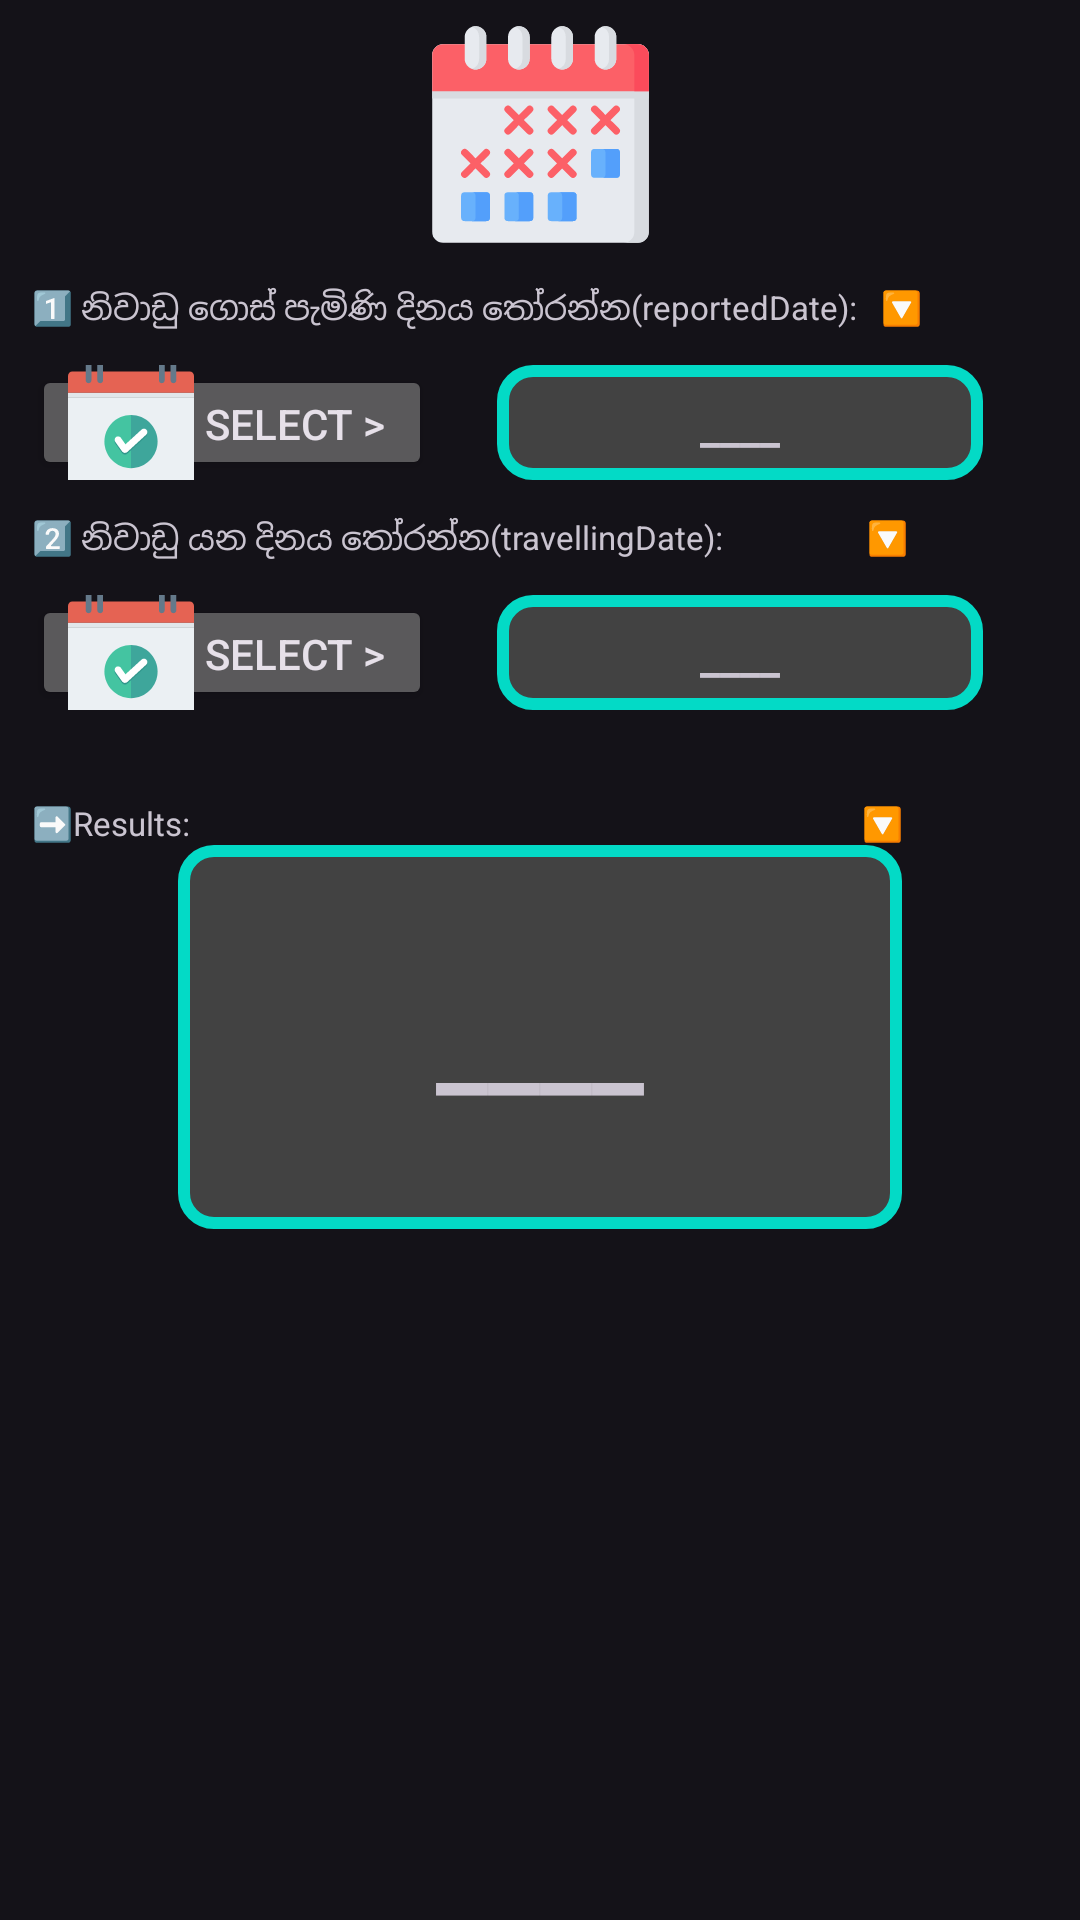

Icons on this 1080 × 1920 Android screen, each with the point to tap as (x,y):
calender dates count: (540,134)
